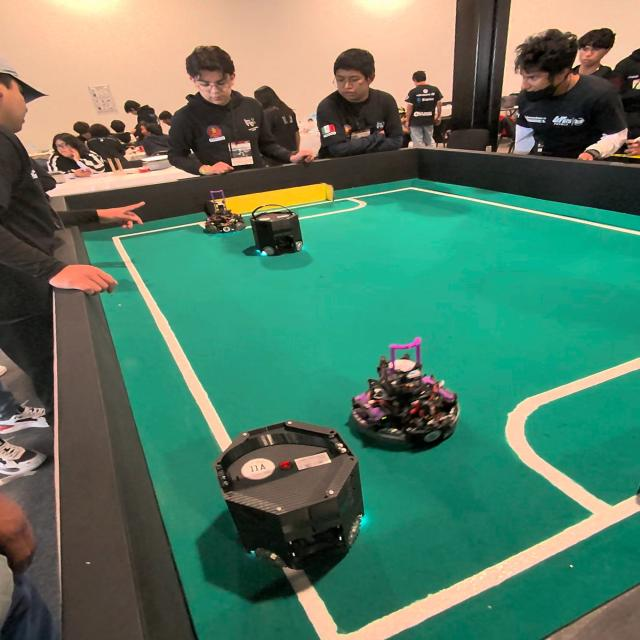Robot: (195, 413, 397, 579), (353, 352, 463, 458), (246, 198, 311, 268), (200, 187, 242, 237)
